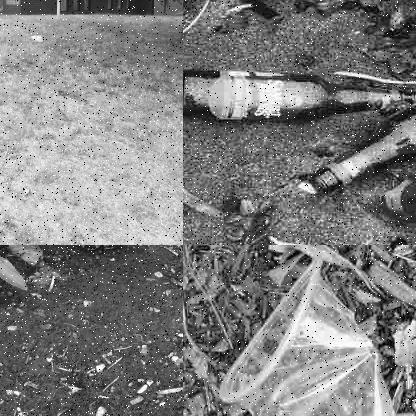glass: (183, 68, 402, 127), (301, 104, 416, 207)
plastic: (219, 252, 407, 415), (28, 32, 43, 44)
